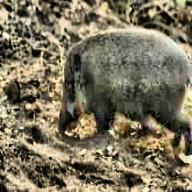boar: (55, 32, 192, 149)
